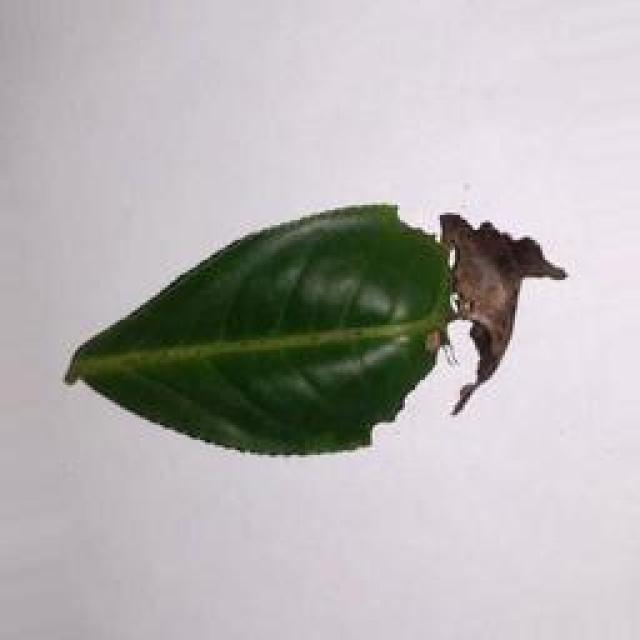Brown Blight: (48, 185, 640, 472)
